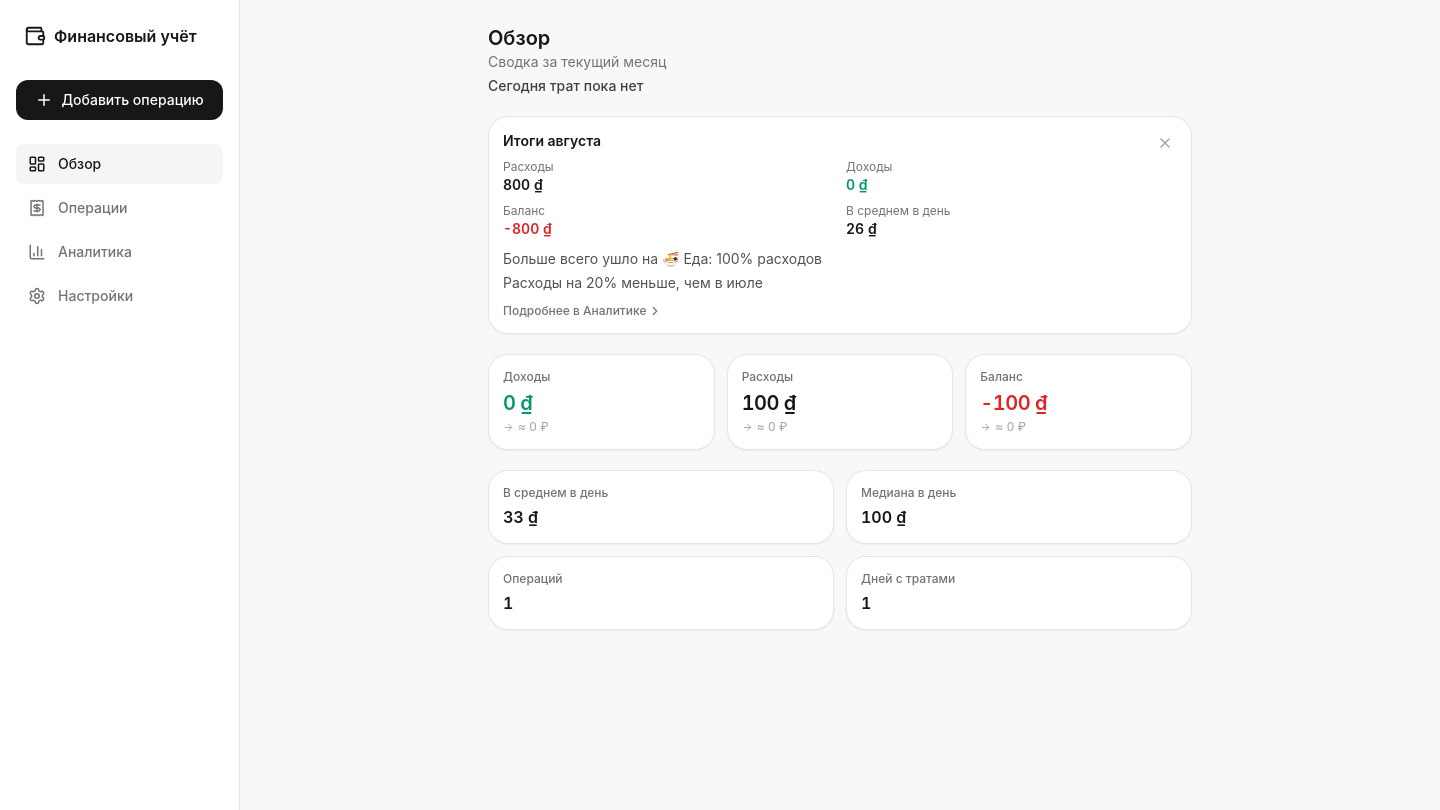
monthly review card › the × hides it until next month
This screenshot has width=1440, height=810.
What coordinates should you click on to do the following:
click the button named "Скрыть до следующего месяца"
I would click on:
 (1165, 143)
Its box is x1=1143 y1=121 x2=1187 y2=165.
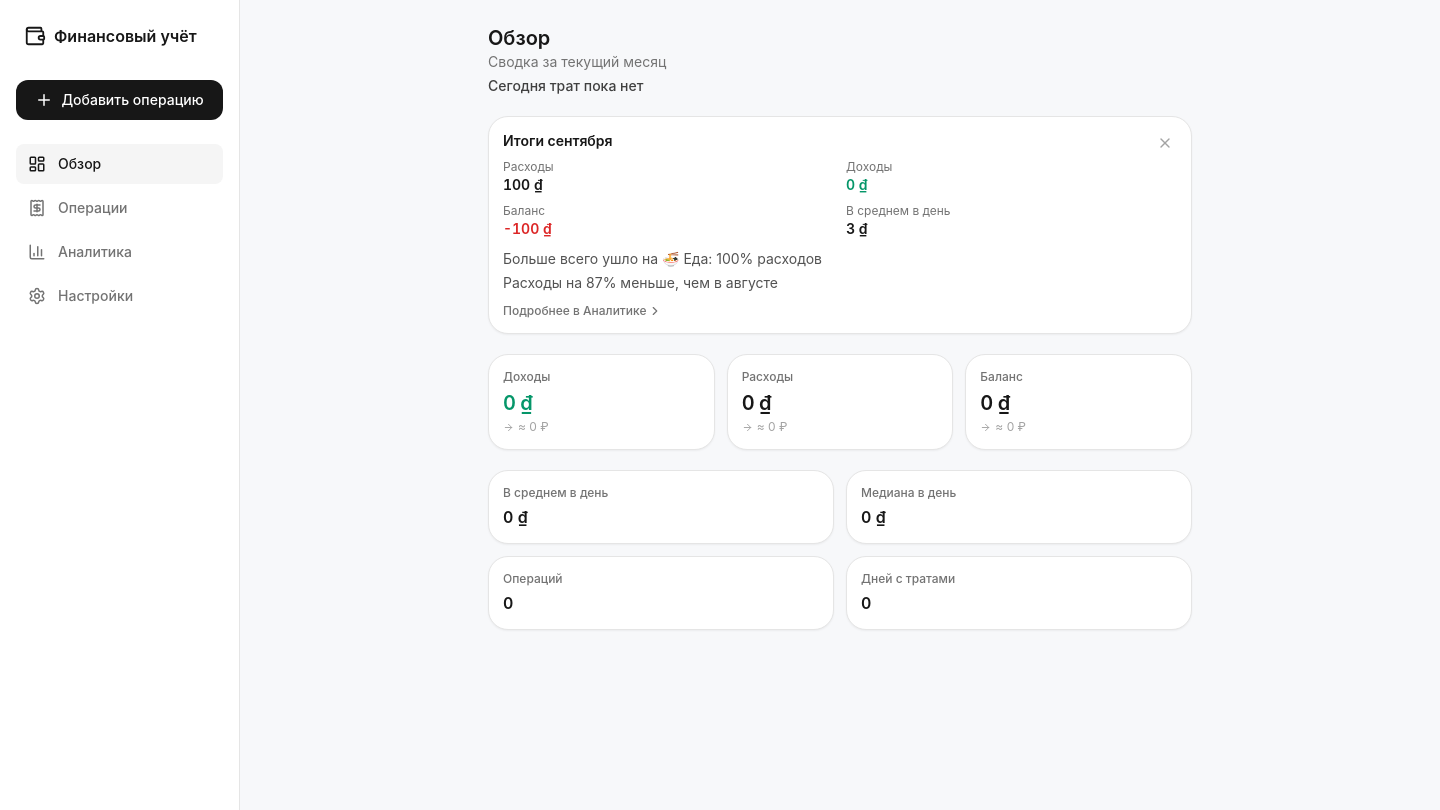
Expected: the link with test id "monthly-review" shows "Итоги сентября", x1=488 y1=116 x2=1192 y2=334
